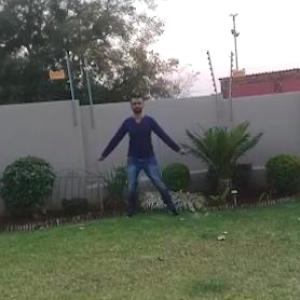land: (96, 90, 195, 221)
